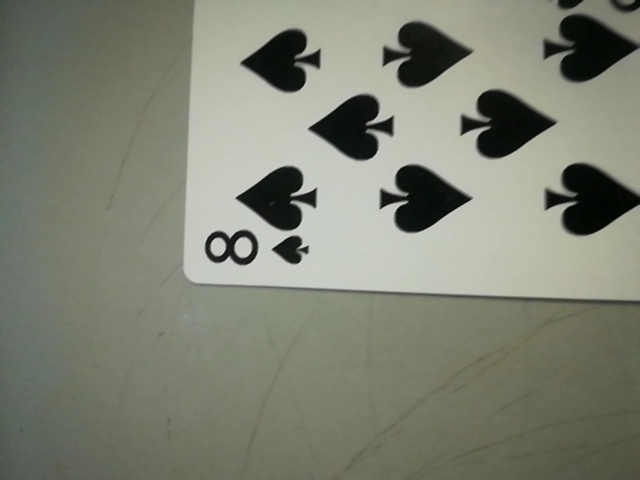ht 8: (187, 211, 317, 282)
